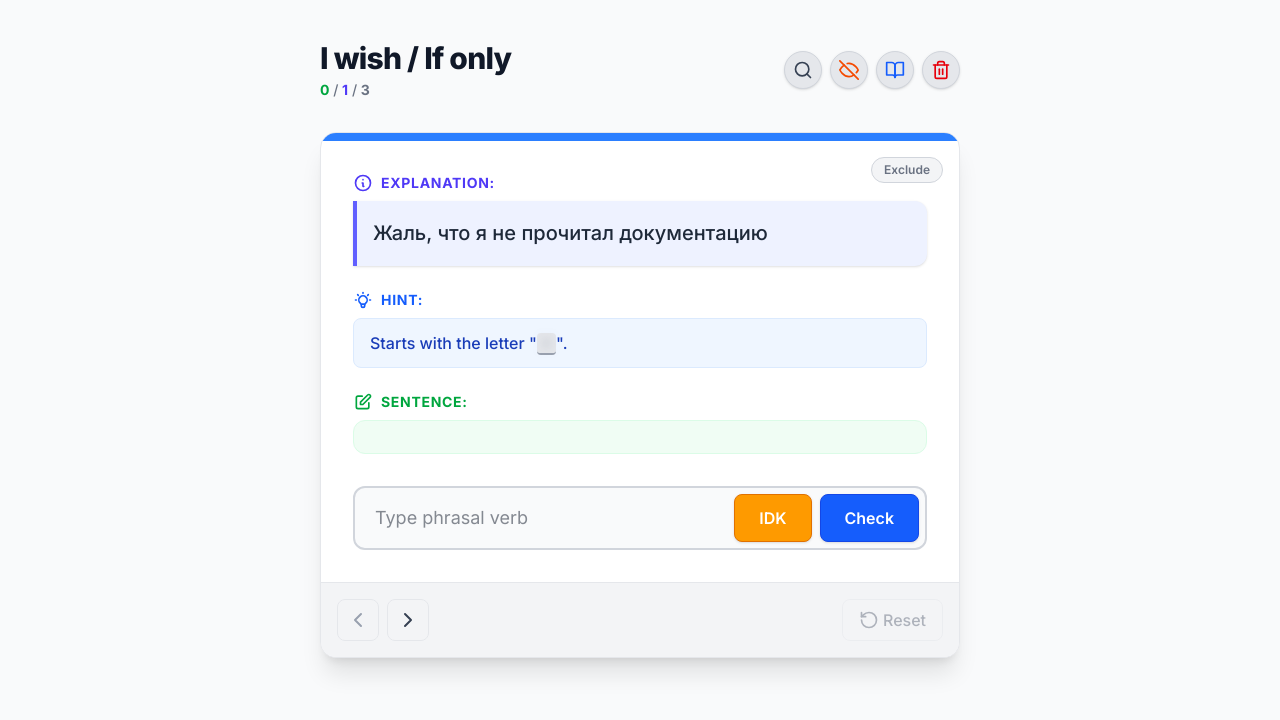
Test: IWishPage — ExcludedModal label › shows "Excluded Sentences (0)" heading in ExcludedModal
Click the button titled "View excluded sentences" at (849, 70), box [830,51,868,89]
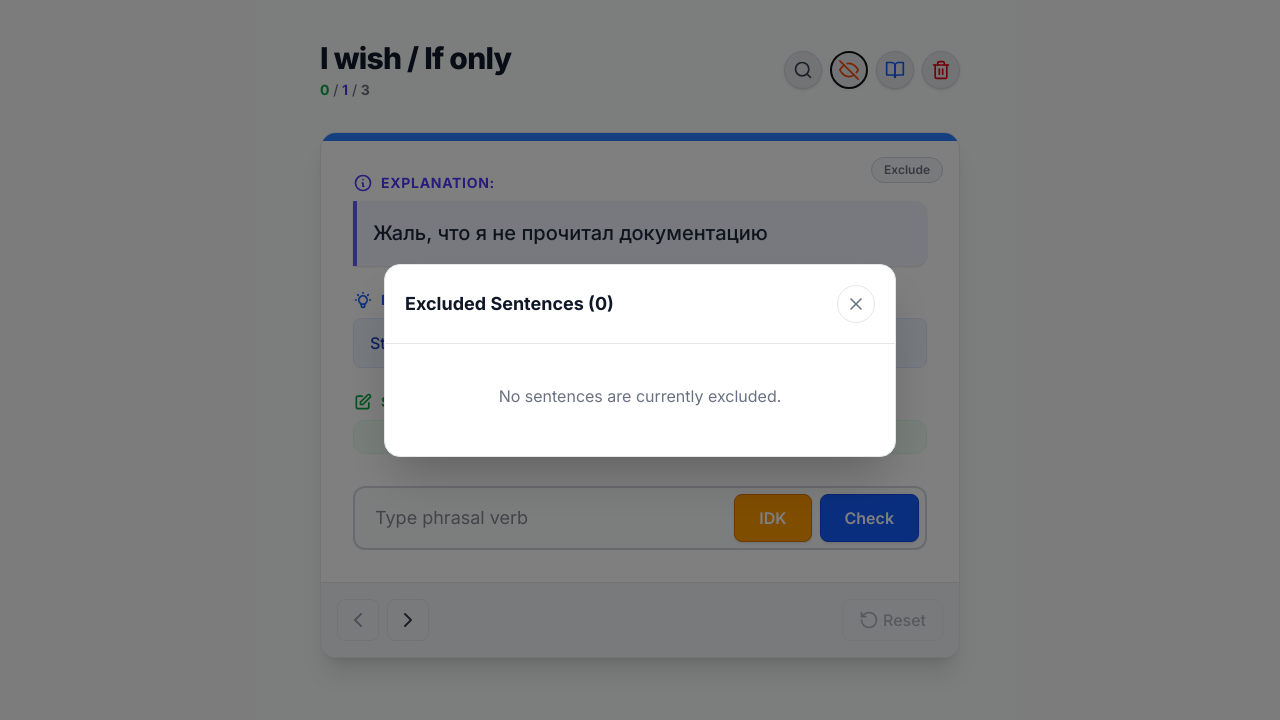
Expected: the heading "Excluded Sentences (0)" is shown, [405,290,614,318]
